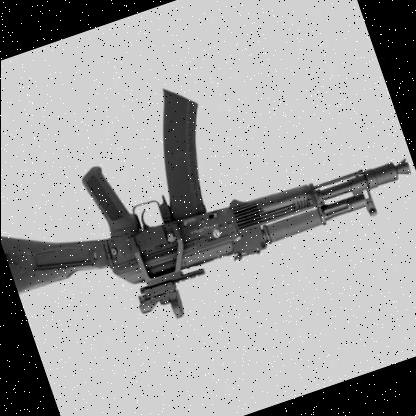rifle: (0, 35, 416, 384)
